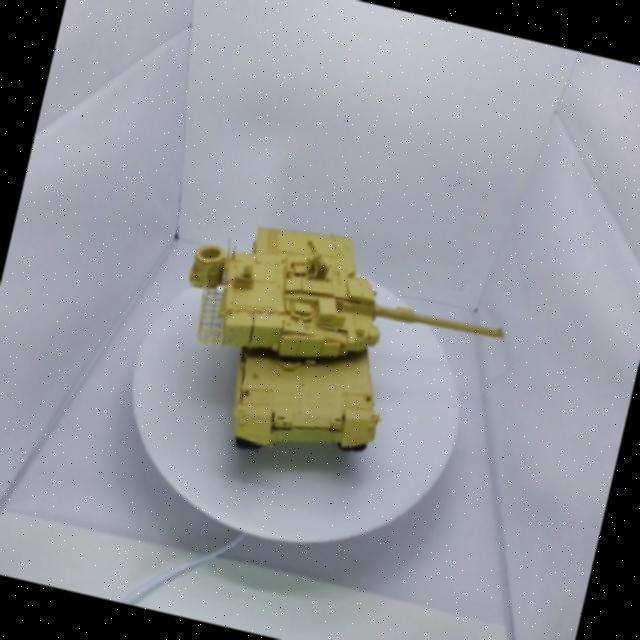korea tank: (118, 158, 552, 531)
